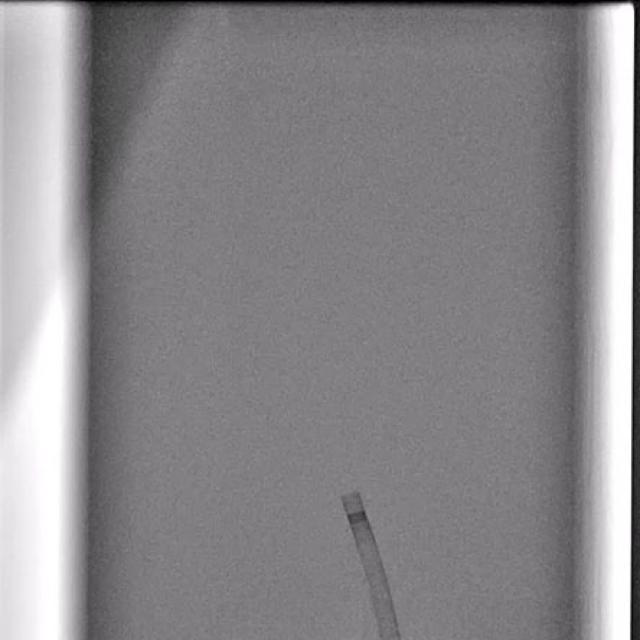entry: (379, 636, 402, 640)
marker: (346, 512, 369, 524)
tip: (342, 492, 361, 501)
